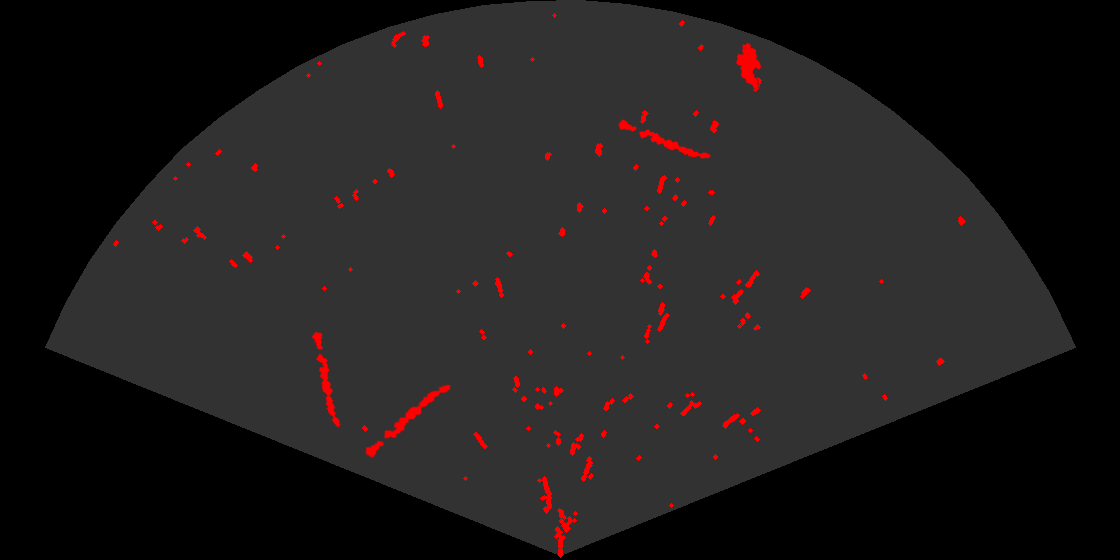AUV: (735, 41, 763, 90)
chain: (364, 383, 452, 459), (617, 118, 712, 160), (310, 329, 342, 429)
